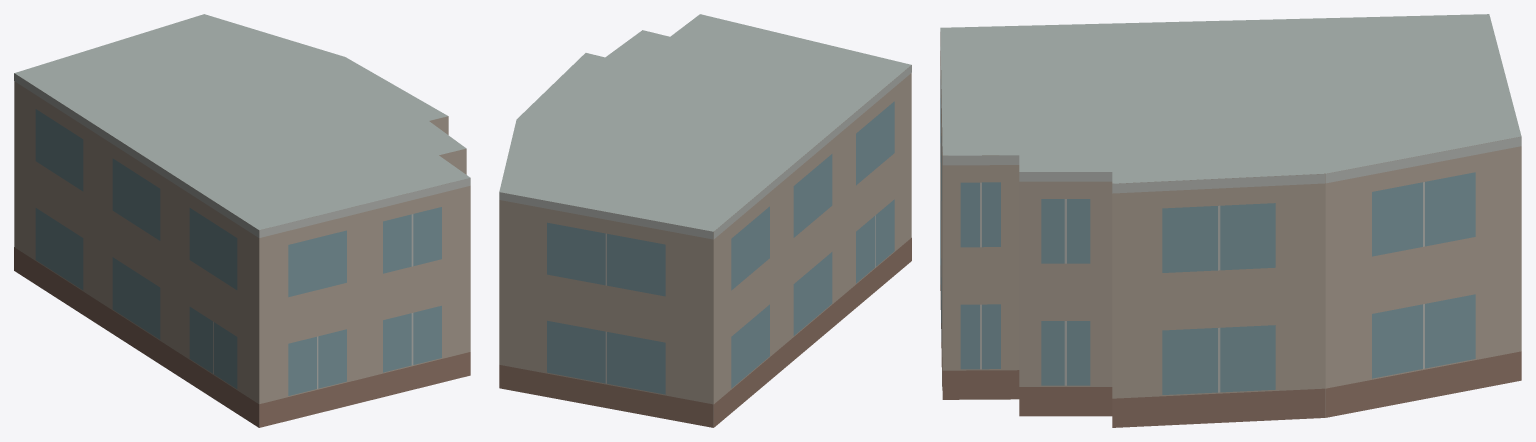
File: survey-upis-32914527.glb
3 renders of one model, left to right at view 1: azimuth 30°, elevation 25°; view 2: azimuth 150°, elevation 25°; view 3: azimuth 270°, elevation 25°, orthographic. The views are drawn at different scales.
Parts seen in each view (by area): view 1: survey-upis-32914527.tmp; view 2: survey-upis-32914527.tmp; view 3: survey-upis-32914527.tmp.
Boxes of the visible parts, x1,y1,x2,y2 form: survey-upis-32914527.tmp: [14, 14, 470, 427]; survey-upis-32914527.tmp: [499, 14, 911, 427]; survey-upis-32914527.tmp: [940, 14, 1521, 427].
Size of the model in its own units: 9.11 by 6.1 by 13.18.
